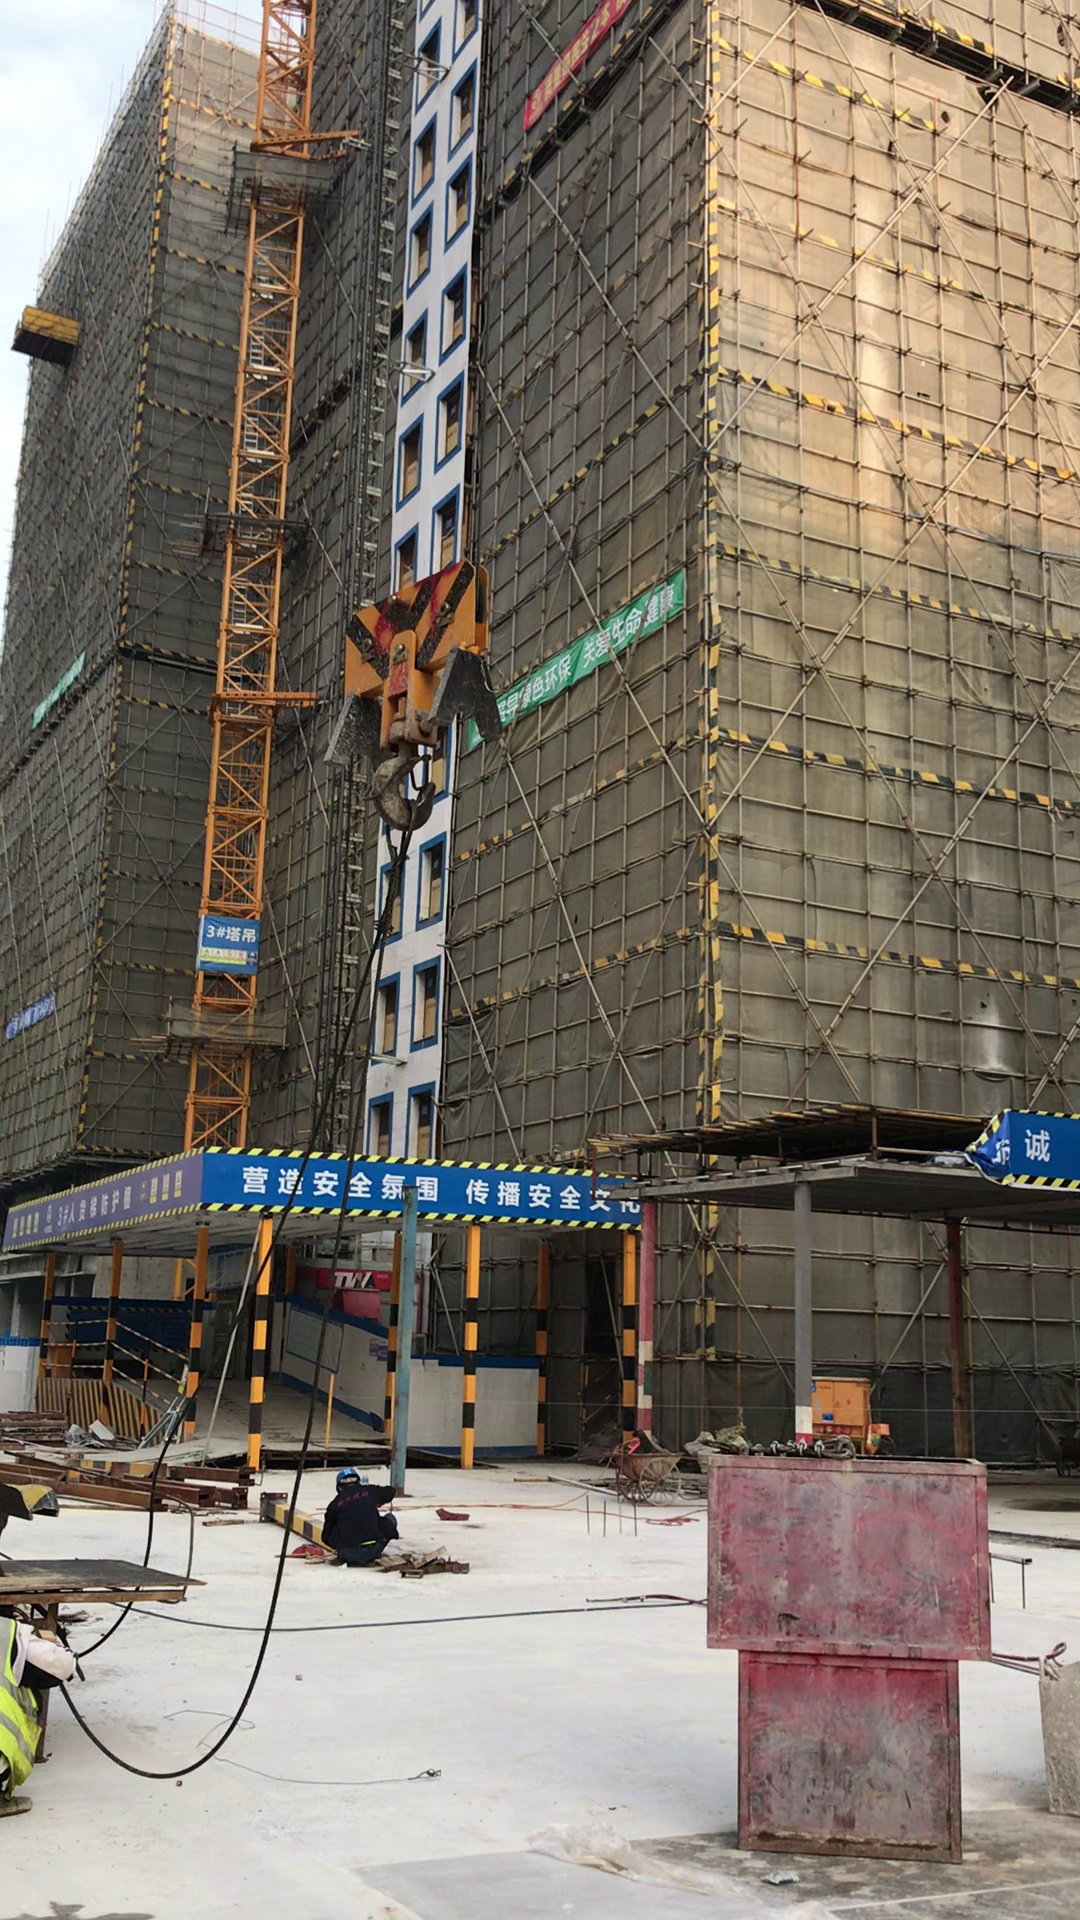ebox: (812, 1374, 873, 1442)
handcart: (589, 1445, 684, 1504)
hook: (311, 578, 516, 797)
person: (1, 1571, 101, 1849), (319, 1460, 403, 1576), (333, 1467, 370, 1486)
slogan: (209, 1136, 632, 1226), (472, 574, 687, 752), (5, 1140, 214, 1253), (980, 1103, 1076, 1184), (30, 655, 87, 726), (6, 996, 57, 1043)
vest: (5, 1617, 46, 1801)
